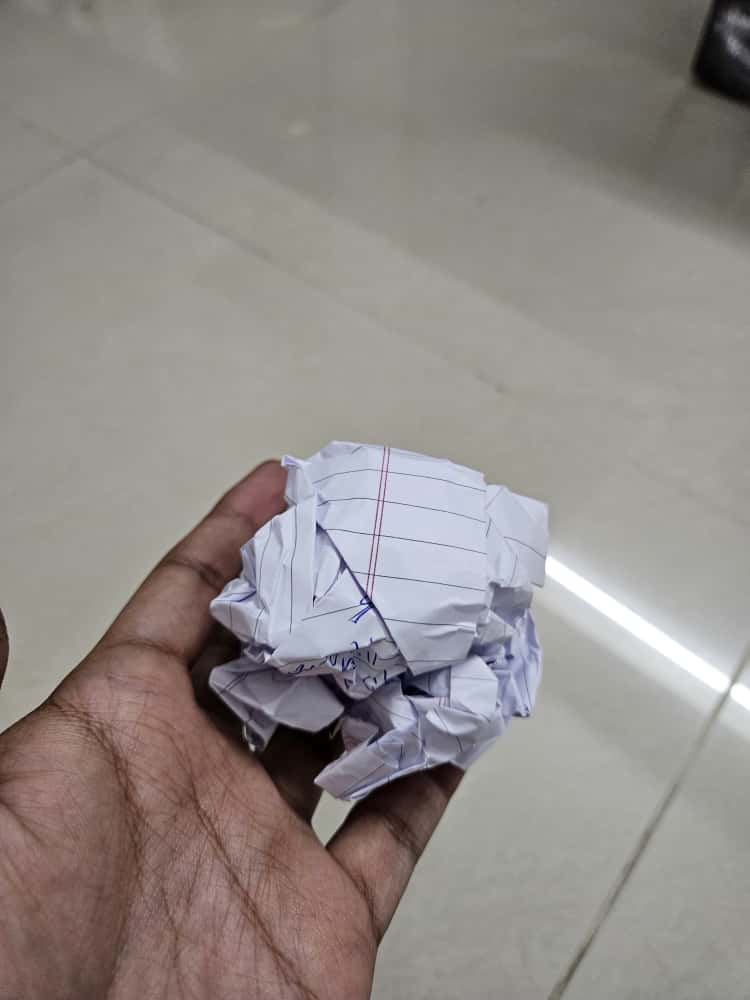dry: (191, 428, 592, 827)
